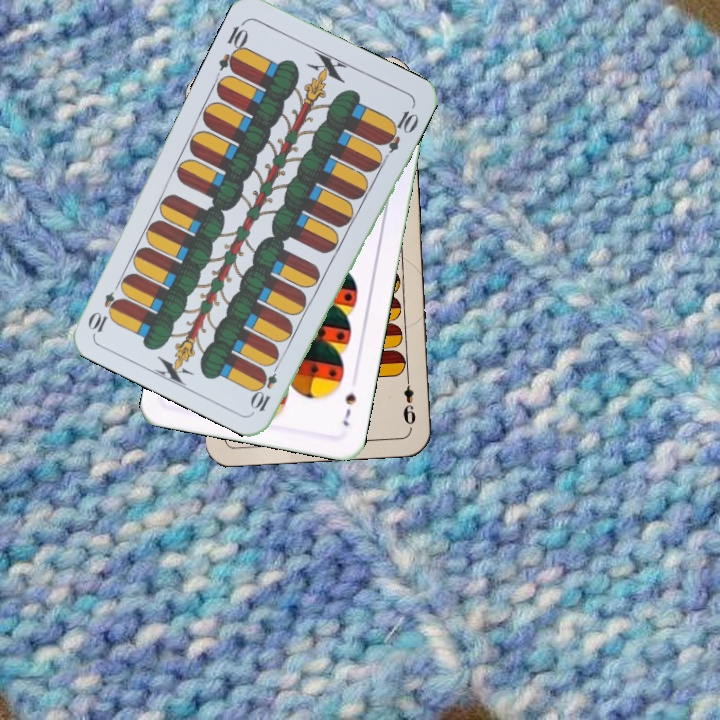E10: (214, 17, 251, 76), (248, 357, 283, 414)
E9: (399, 371, 419, 430)
S7: (339, 389, 359, 429)
